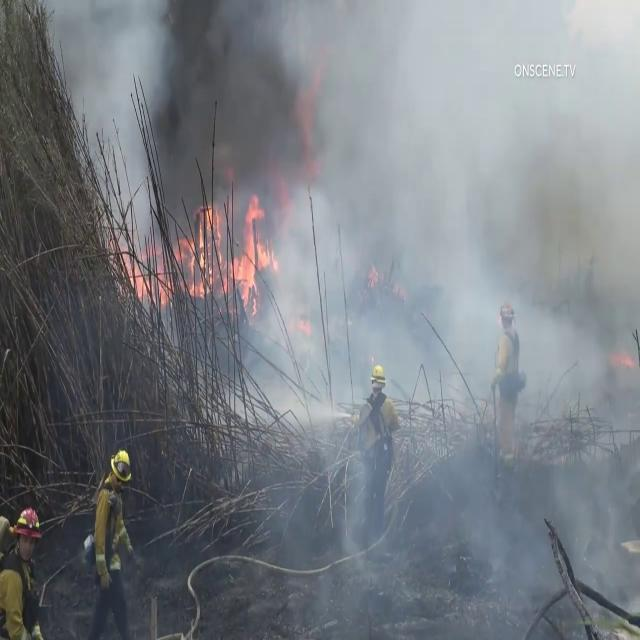Fire: (168, 198, 270, 310)
Smoke: (134, 2, 639, 508)
